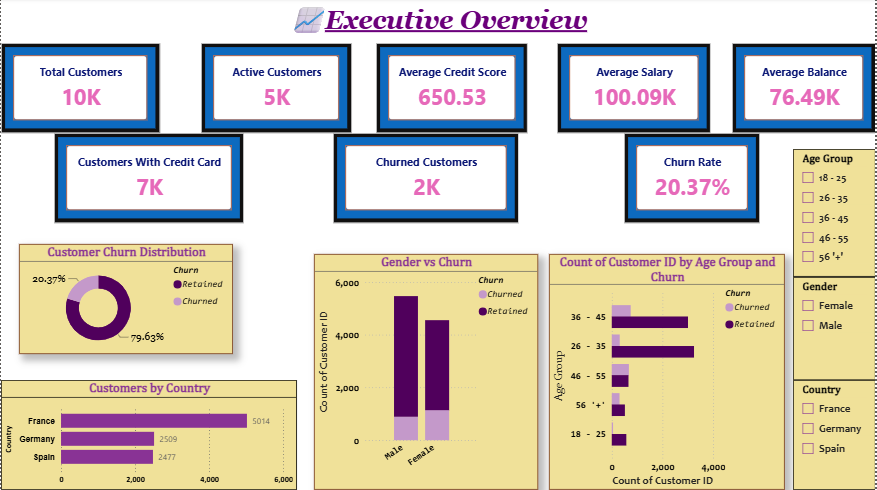

Layout of this report page (visuals, bound fields, positions):
{"tool":"powerbi","page":{"name":"Executive Overview","canvas":[1280,720],"ordinal":2},"visuals":[{"type":"cardVisual","fields":{"Data":["Bank Customer Churn Prediction.Total Customers"]},"box":[0,65.9,232.7,131.7],"z":0},{"type":"cardVisual","fields":{"Data":["Bank Customer Churn Prediction.Churned Customers"]},"box":[485.9,197.6,272.2,131.7],"z":1000},{"type":"cardVisual","fields":{"Data":["Bank Customer Churn Prediction.Churn Rate"]},"box":[911.7,197.6,199,131.7],"z":2000},{"type":"cardVisual","fields":{"Data":["Bank Customer Churn Prediction.Average Credit Score"]},"box":[548.8,65.9,222.4,131.7],"z":3000},{"type":"cardVisual","fields":{"Data":["Bank Customer Churn Prediction.Average Salary"]},"box":[813.7,65.9,225.4,131.7],"z":4000},{"type":"cardVisual","fields":{"Data":["Bank Customer Churn Prediction.Customers With Credit Card"]},"box":[77.6,197.6,278,131.7],"z":5000},{"type":"cardVisual","fields":{"Data":["Bank Customer Churn Prediction.Average Balance"]},"box":[1069.8,65.9,210.7,131.7],"z":6000},{"type":"cardVisual","fields":{"Data":["Bank Customer Churn Prediction.Active Customers"]},"box":[292.7,65.9,221,131.7],"z":7000},{"type":"donutChart","title":"Customer Churn Distribution","fields":{"Category":["Bank Customer Churn Prediction.Churn"],"Y":["CountNonNull(Bank Customer Churn Prediction.Customer ID)"]},"box":[26.3,360,313.2,161],"z":8000},{"type":"clusteredBarChart","title":"Customers by Country","fields":{"Category":["Bank Customer Churn Prediction.Country"],"Y":["CountNonNull(Bank Customer Churn Prediction.Customer ID)"]},"box":[0,559,433.2,161],"z":9000},{"type":"columnChart","title":"Gender vs Churn","fields":{"Category":["Bank Customer Churn Prediction.Gender"],"Y":["CountNonNull(Bank Customer Churn Prediction.Customer ID)"],"Series":["Bank Customer Churn Prediction.Churn"]},"box":[458,374.6,327.8,345.4],"z":10000},{"type":"clusteredBarChart","fields":{"Category":["Bank Customer Churn Prediction.Age Group"],"Y":["CountNonNull(Bank Customer Churn Prediction.Customer ID)"],"Series":["Bank Customer Churn Prediction.Churn"]},"box":[802,374.6,345.4,345.4],"z":11000},{"type":"slicer","fields":{"Values":["Bank Customer Churn Prediction.Country"]},"box":[1159,559,121.5,161],"z":12000},{"type":"slicer","fields":{"Values":["Bank Customer Churn Prediction.Gender"]},"box":[1159,408.3,121.5,150.7],"z":13000},{"type":"slicer","fields":{"Values":["Bank Customer Churn Prediction.Age Group"]},"box":[1159,221,121.5,187.3],"z":14000},{"type":"textbox","box":[0,0,1280.5,65.9],"z":15000}]}

Visuals, with their boxes in screenshot pixels (x1, y1, x2, y2), scaled from the page's 1280x720 canvas onto the 877x490 screenshot:
cardVisual - Bank Customer Churn Prediction.Total Customers: Rect(0, 45, 159, 134)
cardVisual - Bank Customer Churn Prediction.Churned Customers: Rect(333, 134, 519, 224)
cardVisual - Bank Customer Churn Prediction.Churn Rate: Rect(625, 134, 761, 224)
cardVisual - Bank Customer Churn Prediction.Average Credit Score: Rect(376, 45, 528, 134)
cardVisual - Bank Customer Churn Prediction.Average Salary: Rect(558, 45, 712, 134)
cardVisual - Bank Customer Churn Prediction.Customers With Credit Card: Rect(53, 134, 244, 224)
cardVisual - Bank Customer Churn Prediction.Average Balance: Rect(733, 45, 876, 134)
cardVisual - Bank Customer Churn Prediction.Active Customers: Rect(201, 45, 352, 134)
"Customer Churn Distribution" donutChart: Rect(18, 245, 233, 355)
"Customers by Country" clusteredBarChart: Rect(0, 380, 297, 489)
"Gender vs Churn" columnChart: Rect(314, 255, 538, 489)
clusteredBarChart - Bank Customer Churn Prediction.Age Group x CountNonNull(Bank Customer Churn Prediction.Customer ID): Rect(549, 255, 786, 489)
slicer - Bank Customer Churn Prediction.Country: Rect(794, 380, 876, 489)
slicer - Bank Customer Churn Prediction.Gender: Rect(794, 278, 876, 380)
slicer - Bank Customer Churn Prediction.Age Group: Rect(794, 150, 876, 278)
textbox: Rect(0, 0, 876, 45)
